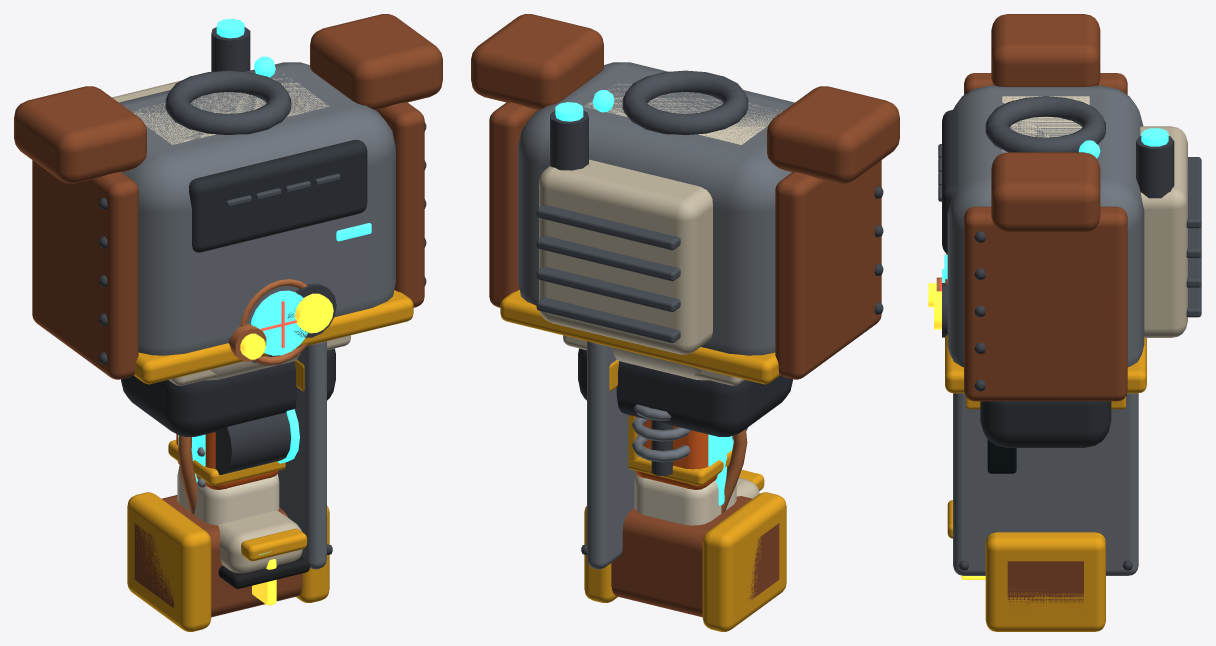
Rendered from parts-w01.glb.
The picture shows the model from 3 angles, left to right: view 1: azimuth 30°, elevation 25°; view 2: azimuth 150°, elevation 25°; view 3: azimuth 270°, elevation 25°; orthographic projection. The views are drawn at different scales.
Visible parts, largest first — view 1: P24__SOCKET_TORSO, hammer, P23__SOCKET_TORSO, P23__SOCKET_HIPS, shield, P17__SOCKET_LEG_L_SHIN, fist, drum, eye (×2), P02__SOCKET_HEAD, P03__SOCKET_HEAD, P07__SOCKET_ARM_L_FORE (+2 smaller); view 2: P24__SOCKET_TORSO, P23__SOCKET_TORSO, hammer, P23__SOCKET_HIPS, shield, fist, P18__SOCKET_LEG_L_SHIN, P01__SOCKET_HEAD, P07__SOCKET_ARM_L_UPPER, P07__SOCKET_ARM_L_FORE, P12__SOCKET_ARM_R_FORE, P17__SOCKET_LEG_L_SHIN; view 3: P24__SOCKET_TORSO, shield, P23__SOCKET_TORSO, hammer, P23__SOCKET_HIPS, P03__SOCKET_HEAD.
Boxes of the visible parts, x1,y1,x2,y2 form: P24__SOCKET_TORSO: (14,14,442,384); hammer: (127,492,329,631); P23__SOCKET_TORSO: (112,18,329,144); P23__SOCKET_HIPS: (121,335,350,436); shield: (277,341,332,569); P17__SOCKET_LEG_L_SHIN: (218,510,309,588); fist: (168,440,285,525); drum: (215,412,291,475); eye (×2): (251,290,333,355); P02__SOCKET_HEAD: (240,56,309,365); P03__SOCKET_HEAD: (228,283,336,361); P07__SOCKET_ARM_L_FORE: (177,409,299,489); P24__SOCKET_TORSO: (471,14,899,384); P23__SOCKET_TORSO: (536,70,781,354); hammer: (584,492,786,631); P23__SOCKET_HIPS: (563,335,792,436); shield: (581,341,636,569); fist: (628,450,736,525); P18__SOCKET_LEG_L_SHIN: (631,404,690,476); P01__SOCKET_HEAD: (612,347,708,380); P07__SOCKET_ARM_L_UPPER: (628,415,708,469); P07__SOCKET_ARM_L_FORE: (635,419,733,489); P12__SOCKET_ARM_R_FORE: (721,429,747,513); P17__SOCKET_LEG_L_SHIN: (736,470,764,498); P24__SOCKET_TORSO: (938,14,1146,401); shield: (953,393,1138,575); P23__SOCKET_TORSO: (957,96,1201,337); hammer: (961,532,1105,631); P23__SOCKET_HIPS: (980,401,1111,447); P03__SOCKET_HEAD: (928,277,947,337).
Bounding box in the file's own units: 0.78 × 1.01 × 0.5.
